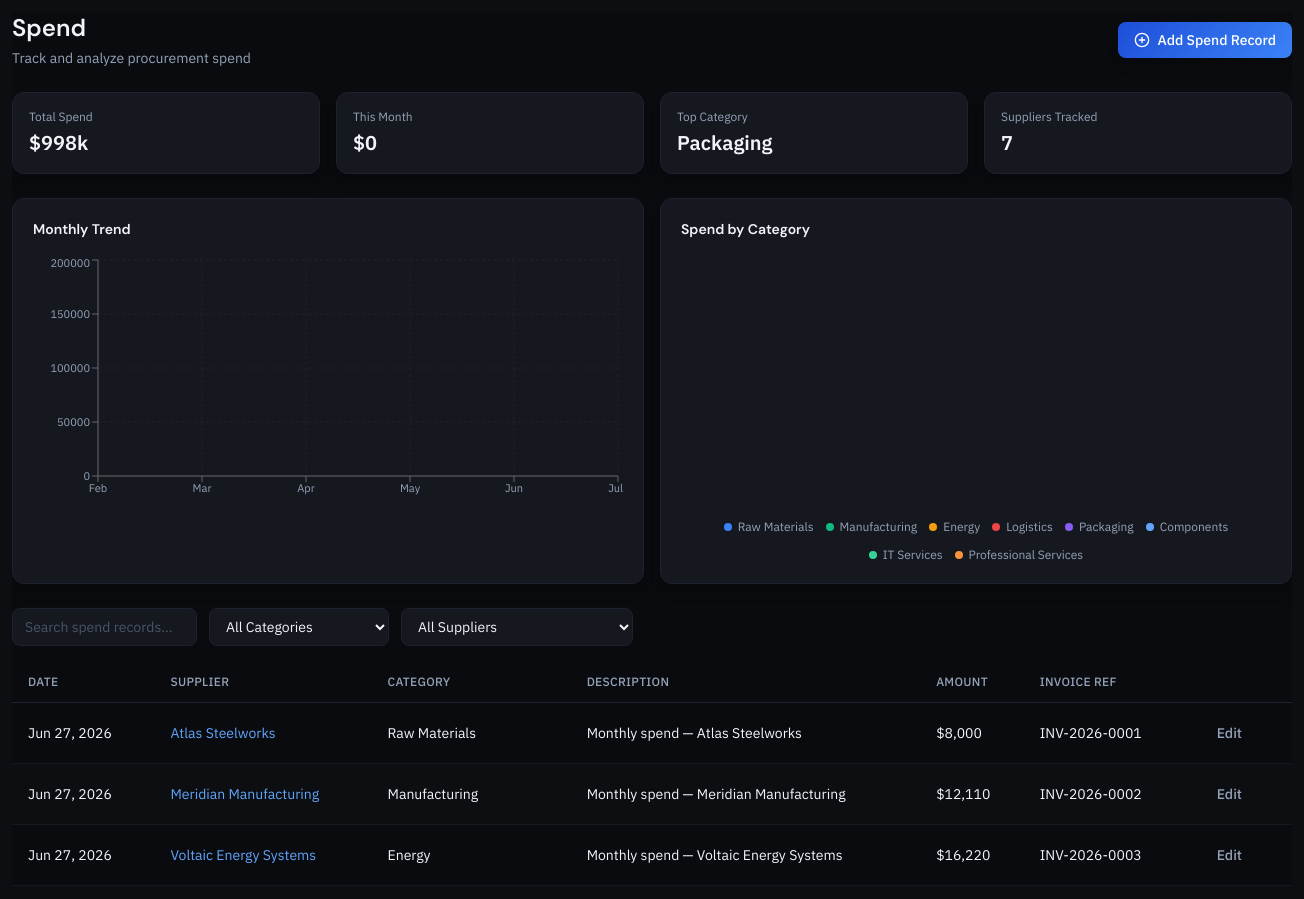
it: Spend › filters the table by supplier name search
In the field with placeholder "Search spend records...": [104, 627] box [12,608,197,646], type "Atlas"
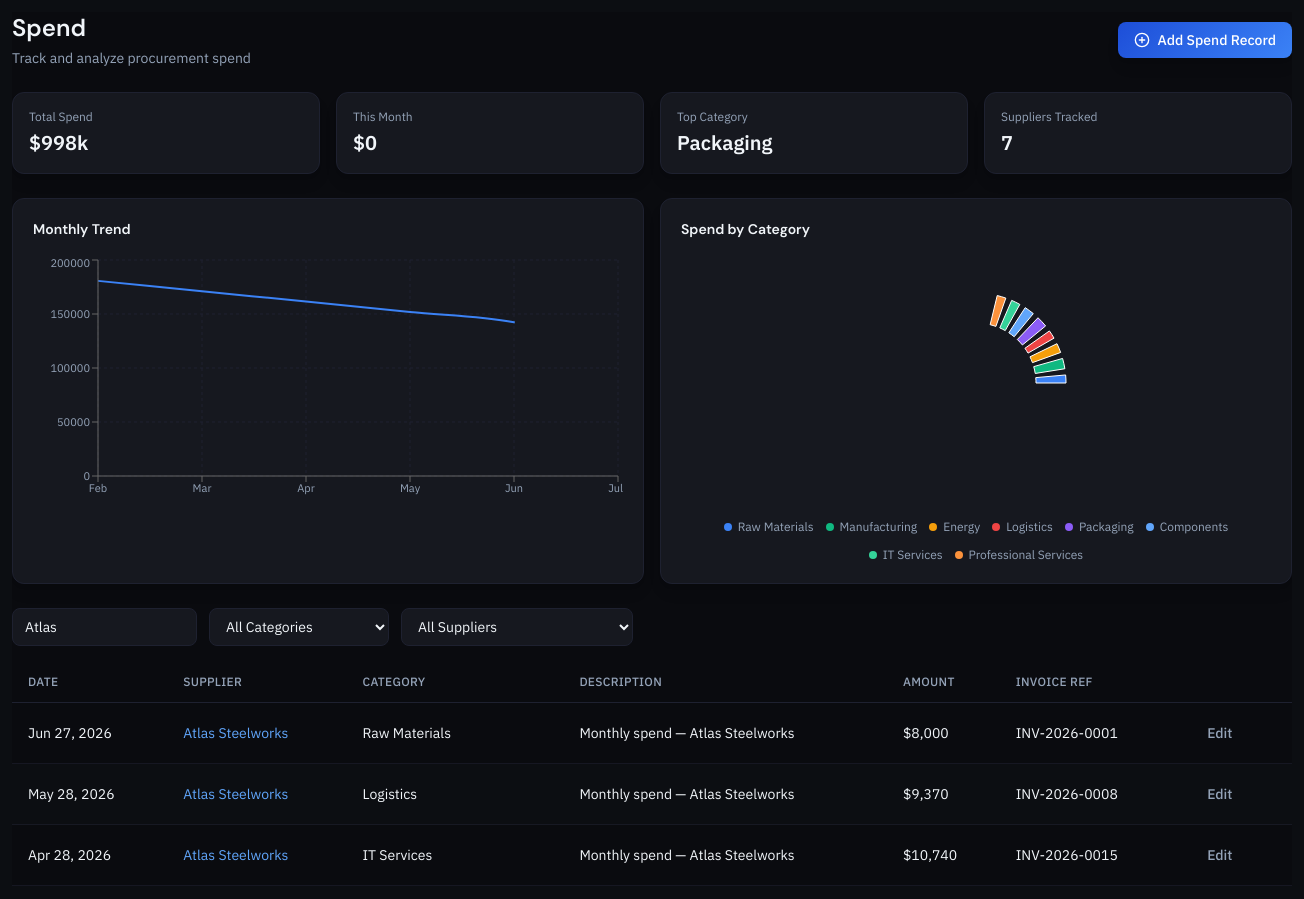
expect the text "Monthly spend — Atlas Steelworks" in the row of "Jun 27, 2026" is shown: met, box [579,724,795,742]
expect the text "Monthly spend — Meridian Manufacturing" is gone: met
